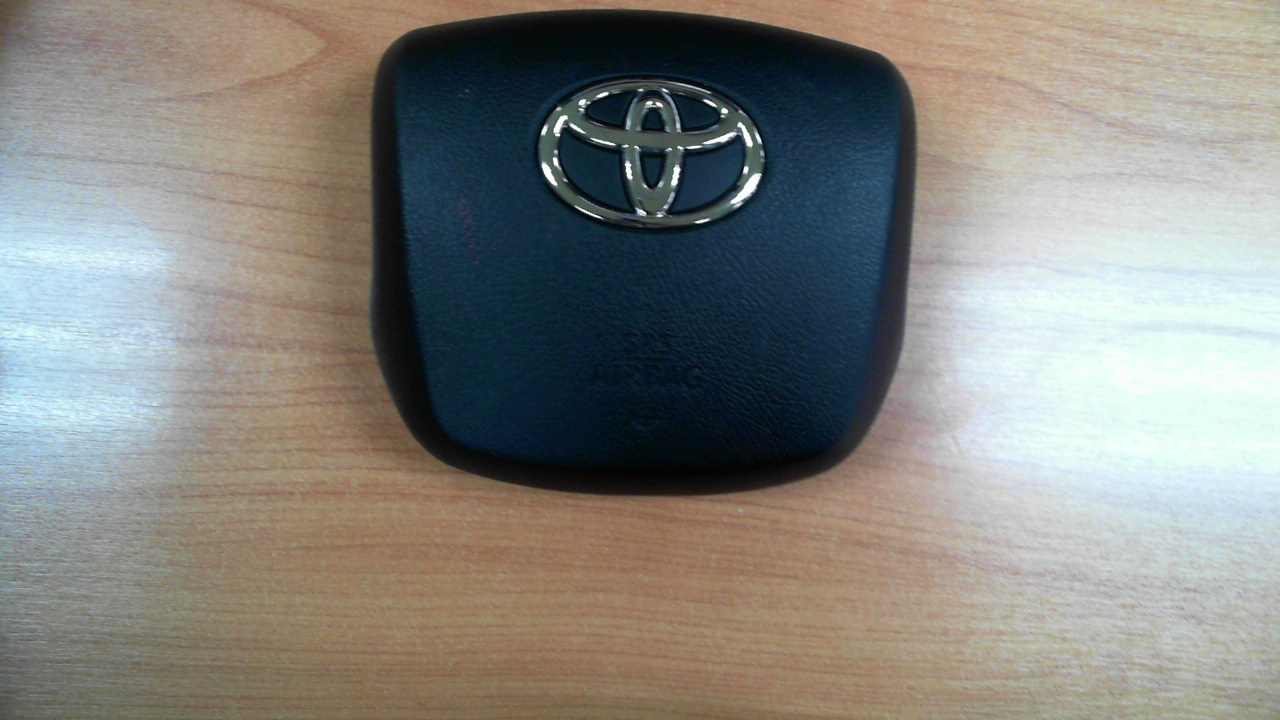Airbag: (372, 8, 921, 492)
Toyota: (537, 78, 766, 229)
